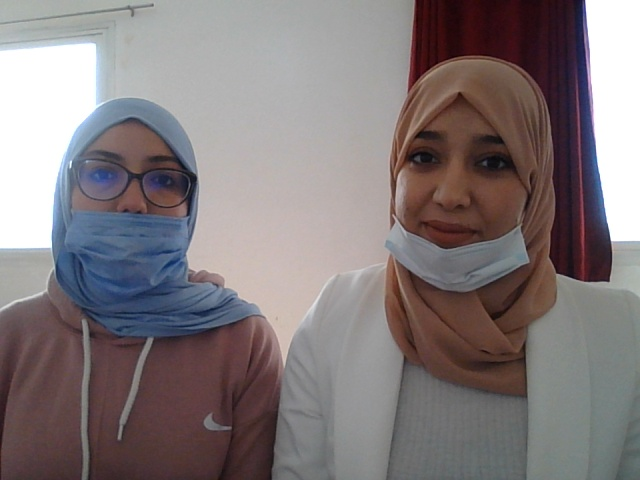mask_weared_incorrect: (384, 64, 550, 300), (51, 103, 197, 291)
